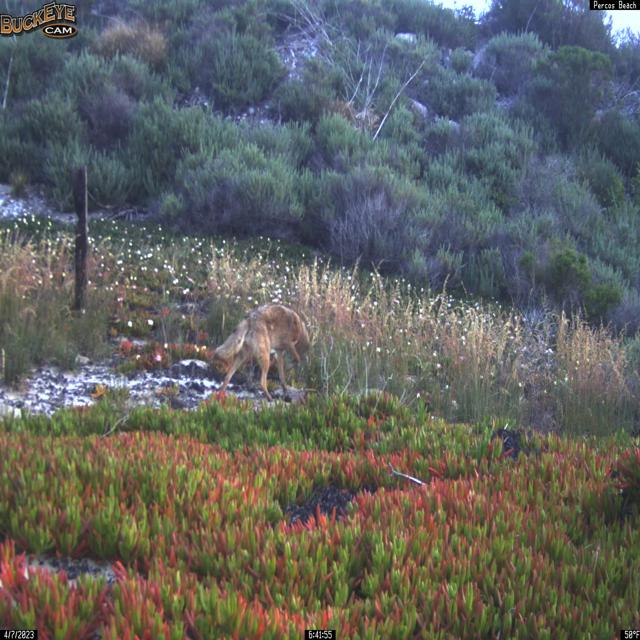coyote: (211, 303, 311, 403)
